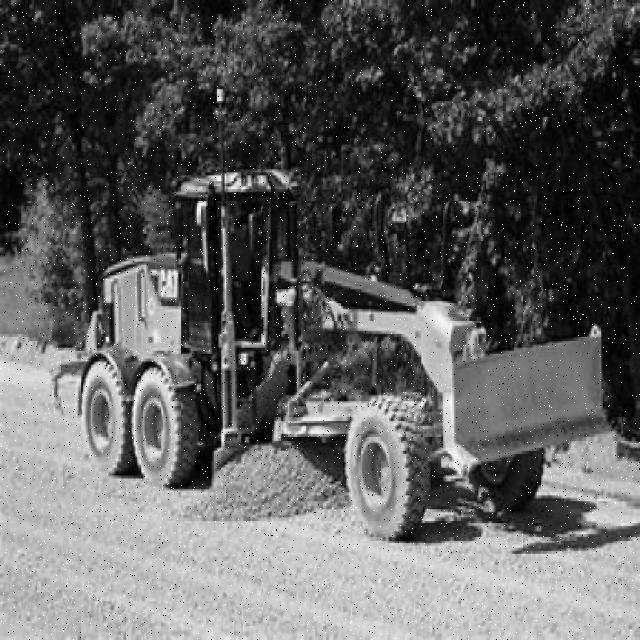Construction Equipment: (45, 170, 613, 544)
